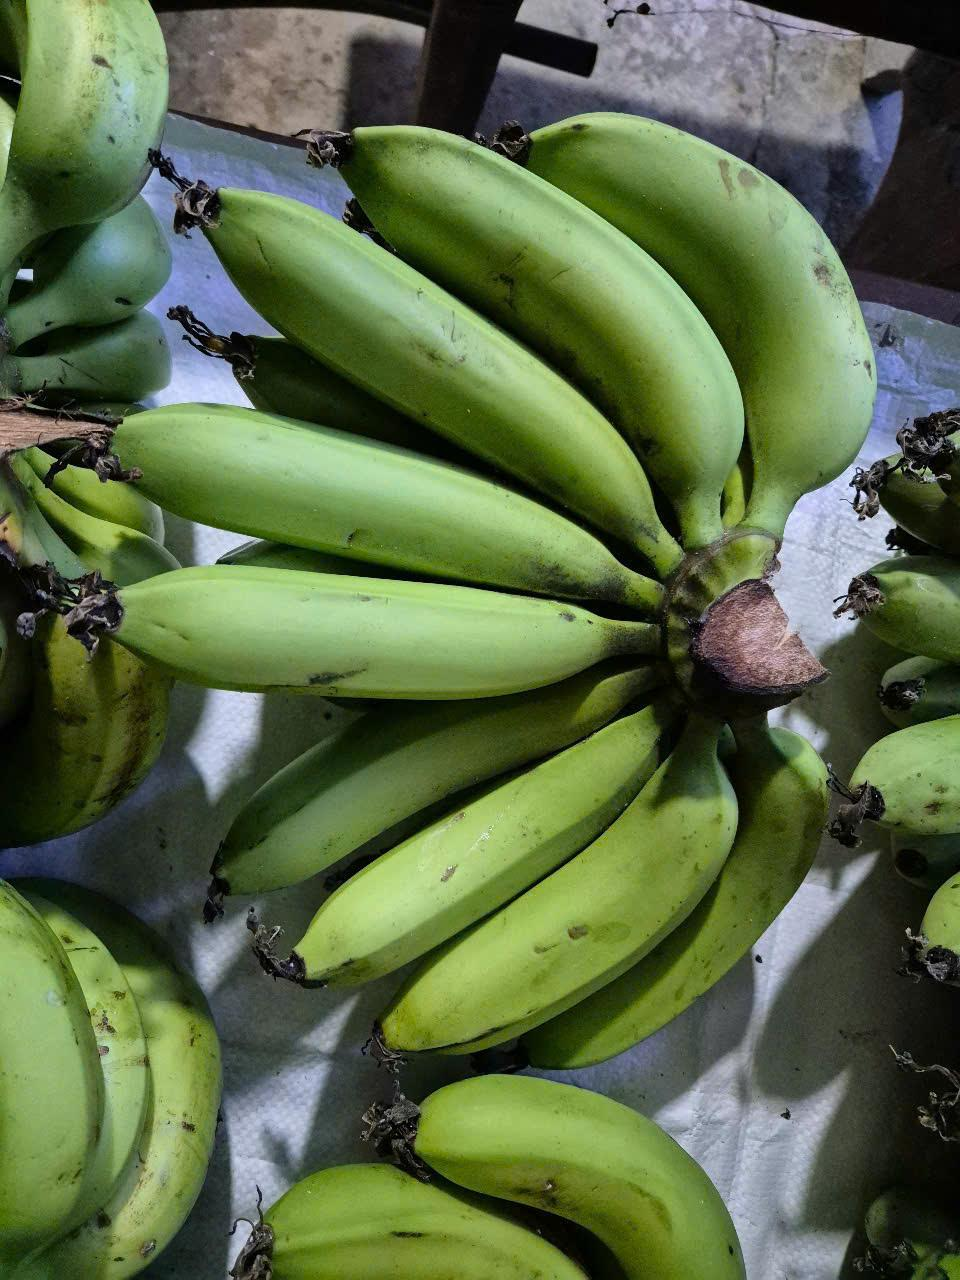banana: (120, 80, 885, 600), (123, 566, 828, 1092), (266, 1037, 760, 1280)
